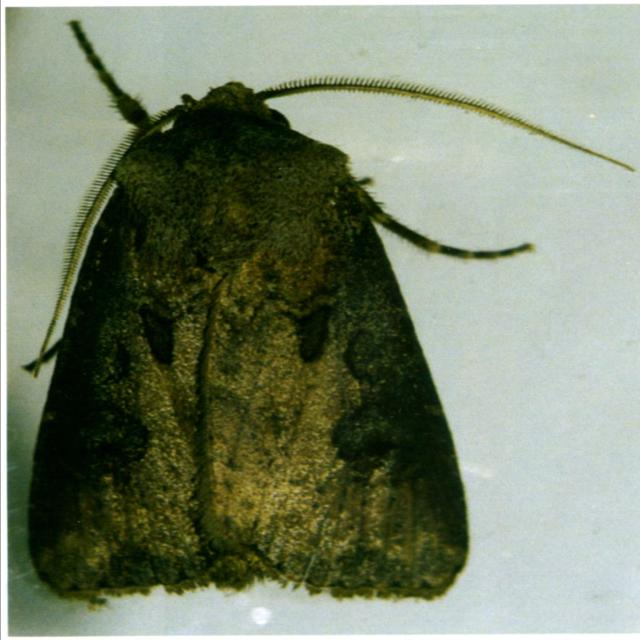black cutworm: (31, 80, 485, 618)
